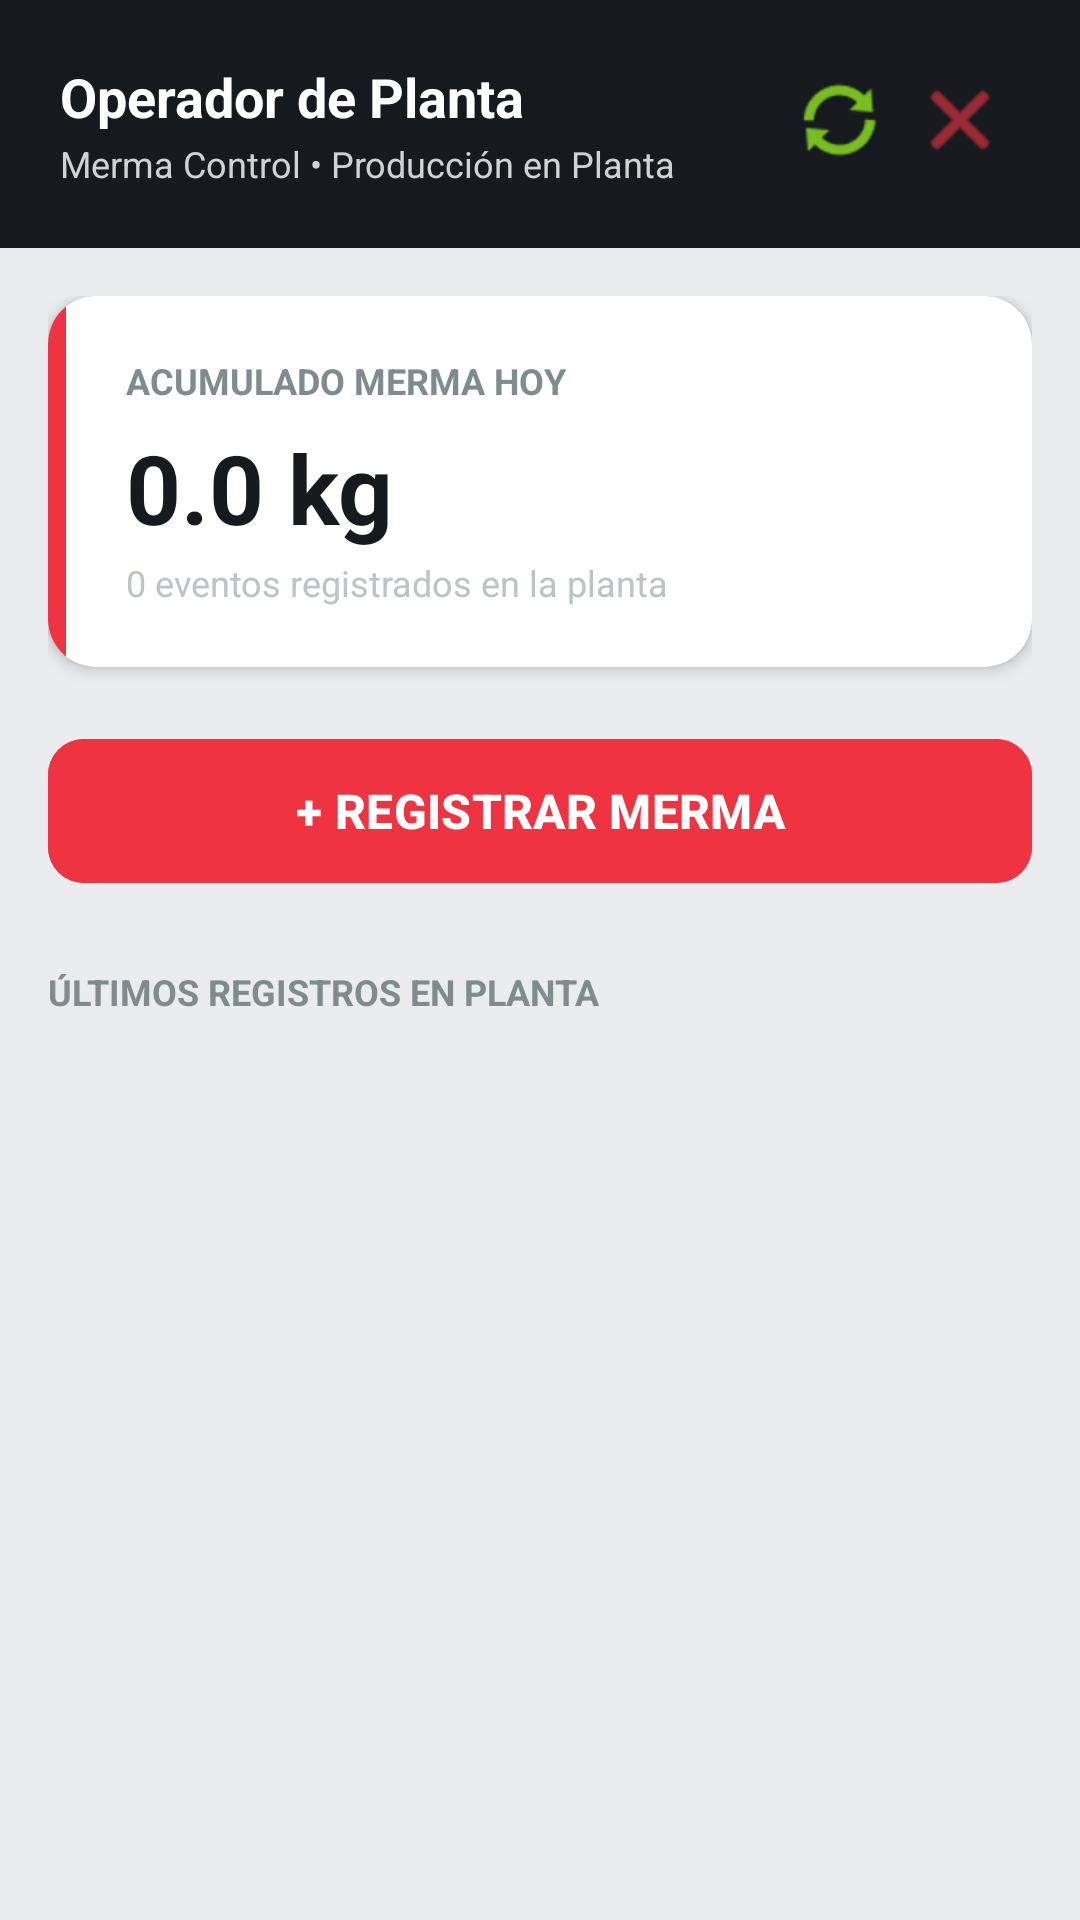

Point at icon controls on the screen. Image size 1080 × 1920, points as [x,y].
close clear cancel: [960,120]
popup sync: [839,120]
